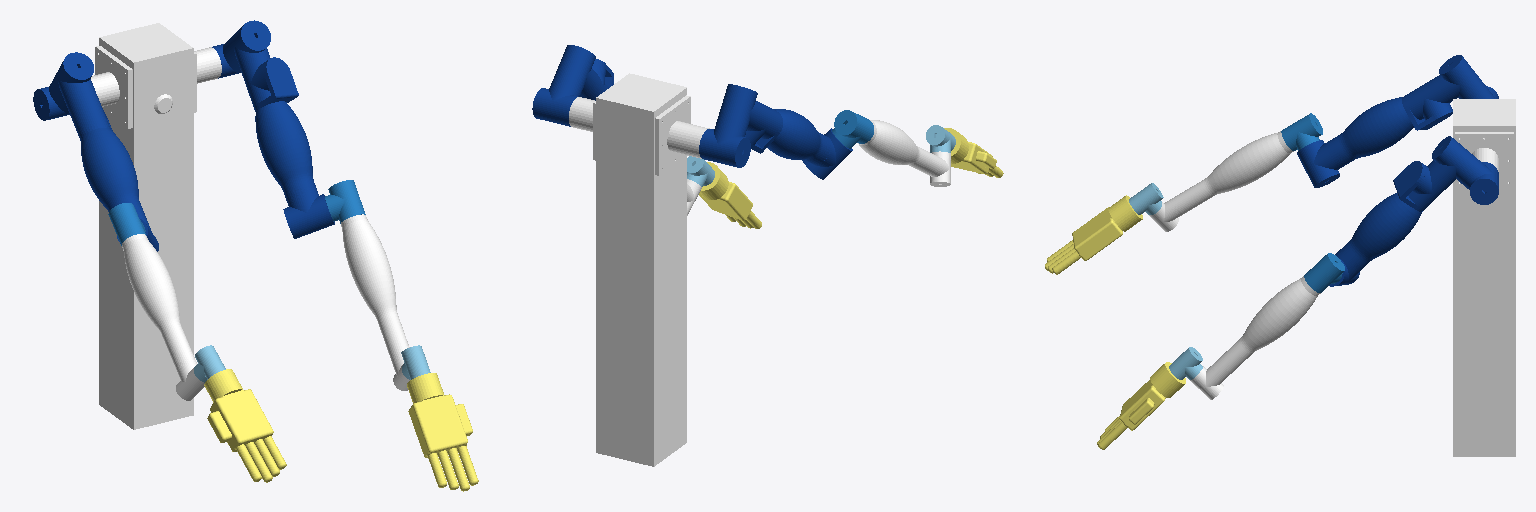
--- Render facts (derived) ---
3 views of the same robot in one strip: view 1: azimuth 30°, elevation 25°; view 2: azimuth 150°, elevation 25°; view 3: azimuth 270°, elevation 25° (orthographic).
Model armdouble with 16 links and 15 joints (14 continuous, 1 fixed), rooted at world, posed every joint at zero.
Visible links, largest first — view 1: base_link, left_link3, right_link3, left_link7, right_link5, right_link7, left_link5, left_link2, right_link2, left_link4, right_link4, right_link1 (+2 smaller); view 2: base_link, right_link3, right_link5, left_link7, right_link1, right_link2, left_link2, left_link1, right_link7, right_link4, left_link3, left_link6 (+1 smaller); view 3: base_link, right_link3, left_link3, left_link5, right_link5, right_link7, left_link7, left_link2, right_link2, left_link1, left_link4, right_link4 (+2 smaller).
Link boxes in pixels (x1=…): base_link: x1=91, y1=23, x2=221, y2=429; left_link3: x1=240, y1=57, x2=334, y2=238; right_link3: x1=65, y1=87, x2=158, y2=251; left_link7: x1=407, y1=373, x2=478, y2=491; right_link5: x1=122, y1=234, x2=204, y2=400; right_link7: x1=204, y1=369, x2=286, y2=482; left_link5: x1=341, y1=214, x2=409, y2=390; left_link2: x1=225, y1=20, x2=270, y2=66; right_link2: x1=51, y1=52, x2=94, y2=101; left_link4: x1=325, y1=180, x2=365, y2=223; right_link4: x1=108, y1=203, x2=145, y2=245; right_link1: x1=33, y1=84, x2=69, y2=120; base_link: x1=569, y1=73, x2=709, y2=466; right_link3: x1=745, y1=101, x2=852, y2=179; right_link5: x1=858, y1=120, x2=950, y2=186; left_link7: x1=699, y1=162, x2=761, y2=228; right_link1: x1=699, y1=124, x2=750, y2=167; right_link2: x1=716, y1=84, x2=760, y2=131; left_link2: x1=552, y1=45, x2=595, y2=93; left_link1: x1=532, y1=82, x2=580, y2=126; right_link7: x1=944, y1=128, x2=1003, y2=177; right_link4: x1=832, y1=110, x2=873, y2=148; left_link3: x1=580, y1=59, x2=613, y2=100; left_link6: x1=687, y1=156, x2=714, y2=186; base_link: x1=1453, y1=99, x2=1515, y2=456; right_link3: x1=1297, y1=76, x2=1452, y2=187; left_link3: x1=1329, y1=161, x2=1451, y2=286; left_link5: x1=1190, y1=276, x2=1320, y2=399; right_link5: x1=1149, y1=131, x2=1293, y2=231; right_link7: x1=1045, y1=195, x2=1142, y2=274; left_link7: x1=1097, y1=362, x2=1185, y2=449; left_link2: x1=1432, y1=136, x2=1479, y2=182; right_link2: x1=1437, y1=55, x2=1484, y2=100; left_link1: x1=1461, y1=161, x2=1498, y2=204; left_link4: x1=1304, y1=253, x2=1344, y2=292; right_link4: x1=1281, y1=113, x2=1322, y2=150.
Size in the robot's own frame: 0.5969 by 0.9649 by 0.7903 metres.
Meshes: 15 distinct files referenced, 15 mesh visuals loaded (15 binary STL).

robot.urdf — armdouble:
<robot
  name="armdouble">
  <link name="world"/>
  <joint name="fixed" type="fixed">
    <parent link="world"/>
    <child link="base_link"/> 
  </joint>
  <link
    name="base_link">
    <inertial>
      <origin
        xyz="-1.30825935592439E-18 -2.47843974540625E-05 0.390304716761227"
        rpy="0 0 0" />
      <mass
        value="12.9490065317485" />
      <inertia
        ixx="0.650041483576152"
        ixy="1.53302010296268E-18"
        ixz="3.97589274936842E-18"
        iyy="0.655333472882223"
        iyz="8.33448706115431E-05"
        izz="0.0397437102111683" />
    </inertial>
    <visual>
      <origin
        xyz="0 0 0"
        rpy="0 0 0" />
      <geometry>
        <mesh
          filename="package://armdouble/meshes/base_link.STL" />
      </geometry>
      <material
        name="">
        <color
          rgba="1 1 1 1" />
      </material>
    </visual>
    <collision>
      <origin
        xyz="0 0 0"
        rpy="0 0 0" />
      <geometry>
        <mesh
          filename="package://armdouble/meshes/base_link.STL" />
      </geometry>
    </collision>
  </link>
  <link
    name="left_link1">
    <inertial>
      <origin
        xyz="1.07941533489253E-09 -0.00421863823711172 0.000844539620302481"
        rpy="0 0 0" />
      <mass
        value="0.254125966188323" />
      <inertia
        ixx="0.000198332098202314"
        ixy="-4.23443733825772E-12"
        ixz="2.49972430372105E-11"
        iyy="0.000180528370127098"
        iyz="-9.05401811091255E-07"
        izz="0.000142050138600536" />
    </inertial>
    <visual>
      <origin
        xyz="0 0 0"
        rpy="0 0 0" />
      <geometry>
        <mesh
          filename="package://armdouble/meshes/left_link1.STL" />
      </geometry>
      <material
        name="">
        <color
          rgba="0.113725490196078 0.313725490196078 0.635294117647059 1" />
      </material>
    </visual>
    <collision>
      <origin
        xyz="0 0 0"
        rpy="0 0 0" />
      <geometry>
        <mesh
          filename="package://armdouble/meshes/left_link1.STL" />
      </geometry>
    </collision>
  </link>
  <joint
    name="left_joint1"
    type="continuous">
    <origin
      xyz="0.184 0 0.675"
      rpy="-1.5708 0.8195 -1.5708" />
    <parent
      link="base_link" />
    <child
      link="left_link1" />
    <axis
      xyz="0 0 -1" />
    <limit
      lower="-3.14"
      upper="3.14"
      effort="10000"
     velocity="10"/>
  </joint>
  <link
    name="left_link2">
    <inertial>
      <origin
        xyz="1.76481834701647E-09 -0.00421857706570139 0.00084454023607361"
        rpy="0 0 0" />
      <mass
        value="0.254125677990374" />
      <inertia
        ixx="0.000198331675931475"
        ixy="5.93428759048169E-12"
        ixz="5.5308855564781E-12"
        iyy="0.000180528501061914"
        iyz="-9.05388593237672E-07"
        izz="0.000142050134140347" />
    </inertial>
    <visual>
      <origin
        xyz="0 0 0"
        rpy="0 0 0" />
      <geometry>
        <mesh
          filename="package://armdouble/meshes/left_link2.STL" />
      </geometry>
      <material
        name="">
        <color
          rgba="0.113725490196078 0.313725490196078 0.635294117647059 1" />
      </material>
    </visual>
    <collision>
      <origin
        xyz="0 0 0"
        rpy="0 0 0" />
      <geometry>
        <mesh
          filename="package://armdouble/meshes/left_link2.STL" />
      </geometry>
    </collision>
  </link>
  <joint
    name="left_joint2"
    type="continuous">
    <origin
      xyz="0 -0.08 0"
      rpy="1.5708 -1.5495 -5.2864E-15" />
    <parent
      link="left_link1" />
    <child
      link="left_link2" />
    <axis
      xyz="0 0 -1" />
    <limit
      lower="-3.14"
      upper="3.14"
      effort="100"
     velocity="10"/>
  </joint>
  <link
    name="left_link3">
    <inertial>
      <origin
        xyz="9.55937768826118E-05 -0.002016109749721 0.130480214214543"
        rpy="0 0 0" />
      <mass
        value="1.44391963248352" />
      <inertia
        ixx="0.0125306224888963"
        ixy="-2.80847581554033E-05"
        ixz="-1.92557415031902E-05"
        iyy="0.0124326356673661"
        iyz="-0.000385834972851447"
        izz="0.00112527959793678" />
    </inertial>
    <visual>
      <origin
        xyz="0 0 0"
        rpy="0 0 0" />
      <geometry>
        <mesh
          filename="package://armdouble/meshes/left_link3.STL" />
      </geometry>
      <material
        name="">
        <color
          rgba="0.113725490196078 0.313725490196078 0.635294117647059 1" />
      </material>
    </visual>
    <collision>
      <origin
        xyz="0 0 0"
        rpy="0 0 0" />
      <geometry>
        <mesh
          filename="package://armdouble/meshes/left_link3.STL" />
      </geometry>
    </collision>
  </link>
  <joint
    name="left_joint3"
    type="continuous">
    <origin
      xyz="0 -0.08 0"
      rpy="-1.5708 -0.32361 -3.1416" />
    <parent
      link="left_link2" />
    <child
      link="left_link3" />
    <axis
      xyz="0 0 -1" />
    <limit
      lower="-3.14"
      upper="3.14"
      effort="100"
     velocity="10"/>
  </joint>
  <link
    name="left_link4">
    <inertial>
      <origin
        xyz="2.79610266051833E-08 -0.00355662507859367 -0.00123041304413335"
        rpy="0 0 0" />
      <mass
        value="0.151334113576265" />
      <inertia
        ixx="8.52595610907431E-05"
        ixy="4.19449361193231E-11"
        ixz="1.55356059268442E-12"
        iyy="7.76115530728594E-05"
        iyz="6.62256304869109E-07"
        izz="5.91424715957144E-05" />
    </inertial>
    <visual>
      <origin
        xyz="0 0 0"
        rpy="0 0 0" />
      <geometry>
        <mesh
          filename="package://armdouble/meshes/left_link4.STL" />
      </geometry>
      <material
        name="">
        <color
          rgba="0.2 0.537254901960784 0.792156862745098 1" />
      </material>
    </visual>
    <collision>
      <origin
        xyz="0 0 0"
        rpy="0 0 0" />
      <geometry>
        <mesh
          filename="package://armdouble/meshes/left_link4.STL" />
      </geometry>
    </collision>
  </link>
  <joint
    name="left_joint4"
    type="continuous">
    <origin
      xyz="-0.048233 -0.057434 0.27"
      rpy="1.2768E-15 -0.010773 2.443" />
    <parent
      link="left_link3" />
    <child
      link="left_link4" />
    <axis
      xyz="0 -1 0" />
    <limit
      lower="-3.14"
      upper="3.14"
      effort="100"
     velocity="10"/>
  </joint>
  <link
    name="left_link5">
    <inertial>
      <origin
        xyz="8.93314311412041E-11 -0.178072315297836 -0.000118146362791505"
        rpy="0 0 0" />
      <mass
        value="0.695687990955132" />
      <inertia
        ixx="0.00589350948115548"
        ixy="-1.0599535546759E-11"
        ixz="5.7041665228047E-13"
        iyy="0.000360945450853938"
        iyz="1.46362988160341E-05"
        izz="0.0058818682341257" />
    </inertial>
    <visual>
      <origin
        xyz="0 0 0"
        rpy="0 0 0" />
      <geometry>
        <mesh
          filename="package://armdouble/meshes/left_link5.STL" />
      </geometry>
      <material
        name="">
        <color
          rgba="1 1 1 1" />
      </material>
    </visual>
    <collision>
      <origin
        xyz="0 0 0"
        rpy="0 0 0" />
      <geometry>
        <mesh
          filename="package://armdouble/meshes/left_link5.STL" />
      </geometry>
    </collision>
  </link>
  <joint
    name="left_joint5"
    type="continuous">
    <origin
      xyz="0 0 0.35"
      rpy="1.5708 -2.6368E-16 -2.0099" />
    <parent
      link="left_link4" />
    <child
      link="left_link5" />
    <axis
      xyz="0 -1 0" />
    <limit
      lower="-3.14"
      upper="3.14"
      effort="100"
     velocity="10"/>
  </joint>
  <link
    name="left_link6">
    <inertial>
      <origin
        xyz="-6.59787391388278E-10 -0.060977377780739 -0.00332710438216816"
        rpy="0 0 0" />
      <mass
        value="0.0840954351235641" />
      <inertia
        ixx="3.35334184632453E-05"
        ixy="-5.17018097357904E-13"
        ixz="-2.60360251467154E-13"
        iyy="2.19627942424673E-05"
        iyz="2.73464678692907E-07"
        izz="2.99782491575417E-05" />
    </inertial>
    <visual>
      <origin
        xyz="0 0 0"
        rpy="0 0 0" />
      <geometry>
        <mesh
          filename="package://armdouble/meshes/left_link6.STL" />
      </geometry>
      <material
        name="">
        <color
          rgba="0.572549019607843 0.803921568627451 0.913725490196078 1" />
      </material>
    </visual>
    <collision>
      <origin
        xyz="0 0 0"
        rpy="0 0 0" />
      <geometry>
        <mesh
          filename="package://armdouble/meshes/left_link6.STL" />
      </geometry>
    </collision>
  </link>
  <joint
    name="left_joint6"
    type="continuous">
    <origin
      xyz="0 0 0.06"
      rpy="1.5708 1.1102E-16 -3.1416" />
    <parent
      link="left_link5" />
    <child
      link="left_link6" />
    <axis
      xyz="0 -1 0" />
    <limit
      lower="-3.14"
      upper="3.14"
      effort="100"
     velocity="10"/>
  </joint>
  <link
    name="left_link7">
    <inertial>
      <origin
        xyz="-0.00238069059477031 7.67189756167852E-10 0.0937656479758585"
        rpy="0 0 0" />
      <mass
        value="0.515437278825869" />
      <inertia
        ixx="0.00144071148561393"
        ixy="-9.84455041357774E-11"
        ixz="1.28663522693283E-05"
        iyy="0.00165389003057971"
        iyz="-1.89345840845593E-11"
        izz="0.000352650786530423" />
    </inertial>
    <visual>
      <origin
        xyz="0 0 0"
        rpy="0 0 0" />
      <geometry>
        <mesh
          filename="package://armdouble/meshes/left_link7.STL" />
      </geometry>
      <material
        name="">
        <color
          rgba="1 0.964705882352941 0.482352941176471 1" />
      </material>
    </visual>
    <collision>
      <origin
        xyz="0 0 0"
        rpy="0 0 0" />
      <geometry>
        <mesh
          filename="package://armdouble/meshes/left_link7.STL" />
      </geometry>
    </collision>
  </link>
  <joint
    name="left_joint7"
    type="continuous">
    <origin
      xyz="0 0 0.03"
      rpy="3.8858E-16 -2.2204E-16 -3.1416" />
    <parent
      link="left_link6" />
    <child
      link="left_link7" />
    <axis
      xyz="0 0 1" />
    <limit
      lower="-3.14"
      upper="3.14"
      effort="100"
     velocity="10"/>
  </joint>
  <link
    name="right_link1">
    <inertial>
      <origin
        xyz="8.13915529418452E-09 -0.00421863569936587 0.0008445396293075"
        rpy="0 0 0" />
      <mass
        value="0.254125954556314" />
      <inertia
        ixx="0.000198332079001037"
        ixy="1.78425867627279E-11"
        ixz="2.5746319183967E-11"
        iyy="0.000180528373097958"
        iyz="-9.05401254386239E-07"
        izz="0.00014205013378744" />
    </inertial>
    <visual>
      <origin
        xyz="0 0 0"
        rpy="0 0 0" />
      <geometry>
        <mesh
          filename="package://armdouble/meshes/right_link1.STL" />
      </geometry>
      <material
        name="">
        <color
          rgba="0.113725490196078 0.313725490196078 0.635294117647059 1" />
      </material>
    </visual>
    <collision>
      <origin
        xyz="0 0 0"
        rpy="0 0 0" />
      <geometry>
        <mesh
          filename="package://armdouble/meshes/right_link1.STL" />
      </geometry>
    </collision>
  </link>
  <joint
    name="right_joint1"
    type="continuous">
    <origin
      xyz="-0.184 0 0.675"
      rpy="-1.5708 -0.6157 1.5708" />
    <parent
      link="base_link" />
    <child
      link="right_link1" />
    <axis
      xyz="0 0 -1" />
    <limit
      lower="-3.14"
      upper="3.14"
      effort="100"
     velocity="10"/>
  </joint>
  <link
    name="right_link2">
    <inertial>
      <origin
        xyz="9.09519395908553E-09 -0.00421858096765254 0.00084454192245742"
        rpy="0 0 0" />
      <mass
        value="0.254125697144451" />
      <inertia
        ixx="0.000198331699219475"
        ixy="2.67526489751023E-11"
        ixz="8.21765266308138E-12"
        iyy="0.000180528489194234"
        iyz="-9.05389618477969E-07"
        izz="0.000142050127643342" />
    </inertial>
    <visual>
      <origin
        xyz="0 0 0"
        rpy="0 0 0" />
      <geometry>
        <mesh
          filename="package://armdouble/meshes/right_link2.STL" />
      </geometry>
      <material
        name="">
        <color
          rgba="0.113725490196078 0.313725490196078 0.635294117647059 1" />
      </material>
    </visual>
    <collision>
      <origin
        xyz="0 0 0"
        rpy="0 0 0" />
      <geometry>
        <mesh
          filename="package://armdouble/meshes/right_link2.STL" />
      </geometry>
    </collision>
  </link>
  <joint
    name="right_joint2"
    type="continuous">
    <origin
      xyz="0 -0.08 0"
      rpy="-1.5708 1.4879 3.1416" />
    <parent
      link="right_link1" />
    <child
      link="right_link2" />
    <axis
      xyz="0 0 -1" />
    <limit
      lower="-3.14"
      upper="3.14"
      effort="100"
     velocity="10"/>
  </joint>
  <link
    name="right_link3">
    <inertial>
      <origin
        xyz="8.36137888793331E-06 -0.00227833630004282 0.13224017765766"
        rpy="0 0 0" />
      <mass
        value="1.44391962665325" />
      <inertia
        ixx="0.0132607805607266"
        ixy="3.14547025350733E-06"
        ixz="-1.78633685494402E-06"
        iyy="0.0131180866080102"
        iyz="-0.000336655790884567"
        izz="0.00112366670747596" />
    </inertial>
    <visual>
      <origin
        xyz="0 0 0"
        rpy="0 0 0" />
      <geometry>
        <mesh
          filename="package://armdouble/meshes/right_link3.STL" />
      </geometry>
      <material
        name="">
        <color
          rgba="0.113725490196078 0.313725490196078 0.635294117647059 1" />
      </material>
    </visual>
    <collision>
      <origin
        xyz="0 0 0"
        rpy="0 0 0" />
      <geometry>
        <mesh
          filename="package://armdouble/meshes/right_link3.STL" />
      </geometry>
    </collision>
  </link>
  <joint
    name="right_joint3"
    type="continuous">
    <origin
      xyz="0 -0.08 0"
      rpy="1.5708 -0.52464 1.9883E-15" />
    <parent
      link="right_link2" />
    <child
      link="right_link3" />
    <axis
      xyz="0 0 -1" />
    <limit
      lower="-3.14"
      upper="3.14"
      effort="100"
     velocity="10"/>
  </joint>
  <link
    name="right_link4">
    <inertial>
      <origin
        xyz="-2.95433769947895E-08 -0.00355661151027398 -0.00123041346185349"
        rpy="0 0 0" />
      <mass
        value="0.15133406560684" />
      <inertia
        ixx="8.52595173579592E-05"
        ixy="-4.00561334022202E-11"
        ixz="1.02985025597689E-11"
        iyy="7.76115618142258E-05"
        iyz="6.62253549355129E-07"
        izz="5.91424694112566E-05" />
    </inertial>
    <visual>
      <origin
        xyz="0 0 0"
        rpy="0 0 0" />
      <geometry>
        <mesh
          filename="package://armdouble/meshes/right_link4.STL" />
      </geometry>
      <material
        name="">
        <color
          rgba="0.2 0.537254901960784 0.792156862745098 1" />
      </material>
    </visual>
    <collision>
      <origin
        xyz="0 0 0"
        rpy="0 0 0" />
      <geometry>
        <mesh
          filename="package://armdouble/meshes/right_link4.STL" />
      </geometry>
    </collision>
  </link>
  <joint
    name="right_joint4"
    type="continuous">
    <origin
      xyz="-0.0042216 0.074881 0.28"
      rpy="-2.8869E-15 0.014423 0.056317" />
    <parent
      link="right_link3" />
    <child
      link="right_link4" />
    <axis
      xyz="0 -1 0" />
    <limit
      lower="-3.14"
      upper="3.14"
      effort="100"
     velocity="10"/>
  </joint>
  <link
    name="right_link5">
    <inertial>
      <origin
        xyz="1.8523904632417E-10 -0.178072313456951 -0.000118146531250307"
        rpy="0 0 0" />
      <mass
        value="0.695688000018042" />
      <inertia
        ixx="0.00589350965654226"
        ixy="-2.1895961115065E-11"
        ixz="8.56147075976865E-13"
        iyy="0.000360945449051886"
        iyz="1.46363198102075E-05"
        izz="0.00588186840370165" />
    </inertial>
    <visual>
      <origin
        xyz="0 0 0"
        rpy="0 0 0" />
      <geometry>
        <mesh
          filename="package://armdouble/meshes/right_link5.STL" />
      </geometry>
      <material
        name="">
        <color
          rgba="1 1 1 1" />
      </material>
    </visual>
    <collision>
      <origin
        xyz="0 0 0"
        rpy="0 0 0" />
      <geometry>
        <mesh
          filename="package://armdouble/meshes/right_link5.STL" />
      </geometry>
    </collision>
  </link>
  <joint
    name="right_joint5"
    type="continuous">
    <origin
      xyz="0 0 0.35"
      rpy="1.5708 7.0777E-16 2.2424" />
    <parent
      link="right_link4" />
    <child
      link="right_link5" />
    <axis
      xyz="0 -1 0" />
    <limit
      lower="-3.14"
      upper="3.14"
      effort="100"
     velocity="10"/>
  </joint>
  <link
    name="right_link6">
    <inertial>
      <origin
        xyz="1.72353870064867E-08 -0.00332711026229804 -0.000977377267251167"
        rpy="0 0 0" />
      <mass
        value="0.0840954505566071" />
      <inertia
        ixx="3.35334258703234E-05"
        ixy="9.31389665997977E-12"
        ixz="-4.55906246118304E-13"
        iyy="2.99782451158901E-05"
        iyz="2.7346510325998E-07"
        izz="2.19627906947379E-05" />
    </inertial>
    <visual>
      <origin
        xyz="0 0 0"
        rpy="0 0 0" />
      <geometry>
        <mesh
          filename="package://armdouble/meshes/right_link6.STL" />
      </geometry>
      <material
        name="">
        <color
          rgba="0.572549019607843 0.803921568627451 0.913725490196078 1" />
      </material>
    </visual>
    <collision>
      <origin
        xyz="0 0 0"
        rpy="0 0 0" />
      <geometry>
        <mesh
          filename="package://armdouble/meshes/right_link6.STL" />
      </geometry>
    </collision>
  </link>
  <joint
    name="right_joint6"
    type="continuous">
    <origin
      xyz="0 0 0.06"
      rpy="1.5708 -6.9389E-16 -3.0037" />
    <parent
      link="right_link5" />
    <child
      link="right_link6" />
    <axis
      xyz="0 -1 0" />
    <limit
      lower="-3.14"
      upper="3.14"
      effort="100"
     velocity="10"/>
  </joint>
  <link
    name="right_link7">
    <inertial>
      <origin
        xyz="-0.00238068983457324 -4.99865926428811E-10 0.0937656479507275"
        rpy="0 0 0" />
      <mass
        value="0.515437278134674" />
      <inertia
        ixx="0.00144071148068865"
        ixy="-9.67341236477706E-11"
        ixz="1.2866334374982E-05"
        iyy="0.0016538900268342"
        iyz="-5.06397286842257E-12"
        izz="0.000352650786034832" />
    </inertial>
    <visual>
      <origin
        xyz="0 0 0"
        rpy="0 0 0" />
      <geometry>
        <mesh
          filename="package://armdouble/meshes/right_link7.STL" />
      </geometry>
      <material
        name="">
        <color
          rgba="1 0.964705882352941 0.482352941176471 1" />
      </material>
    </visual>
    <collision>
      <origin
        xyz="0 0 0"
        rpy="0 0 0" />
      <geometry>
        <mesh
          filename="package://armdouble/meshes/right_link7.STL" />
      </geometry>
    </collision>
  </link>
  <joint
    name="right_joint7"
    type="continuous">
    <origin
      xyz="0 0 0.03"
      rpy="9.992E-16 -2.7756E-17 0.29205" />
    <parent
      link="right_link6" />
    <child
      link="right_link7" />
    <axis
      xyz="0 0 1" />
    <limit
      lower="-3.14"
      upper="3.14"
      effort="100"
     velocity="10"/>
  </joint>
  <transmission name="left_tran1">
    <type>transmission_interface/SimpleTransmission</type>
    <joint name="left_joint1">
      <hardwareInterface>hardware_interface/EffortJointInterface</hardwareInterface>
    </joint>
    <actuator name="left_motor1">
      <hardwareInterface>hardware_interface/EffortJointInterface</hardwareInterface>
      <mechanicalReduction>1</mechanicalReduction>
    </actuator>
  </transmission>
  <transmission name="left_tran2">
    <type>transmission_interface/SimpleTransmission</type>
    <joint name="left_joint2">
      <hardwareInterface>hardware_interface/EffortJointInterface</hardwareInterface>
    </joint>
    <actuator name="left_motor2">
      <hardwareInterface>hardware_interface/EffortJointInterface</hardwareInterface>
      <mechanicalReduction>1</mechanicalReduction>
    </actuator>
  </transmission>
  <transmission name="left_tran3">
    <type>transmission_interface/SimpleTransmission</type>
    <joint name="left_joint3">
      <hardwareInterface>hardware_interface/EffortJointInterface</hardwareInterface>
    </joint>
    <actuator name="left_motor3">
      <hardwareInterface>hardware_interface/EffortJointInterface</hardwareInterface>
      <mechanicalReduction>1</mechanicalReduction>
    </actuator>
  </transmission>
  <transmission name="left_tran4">
    <type>transmission_interface/SimpleTransmission</type>
    <joint name="left_joint4">
      <hardwareInterface>hardware_interface/EffortJointInterface</hardwareInterface>
    </joint>
    <actuator name="left_motor4">
      <hardwareInterface>hardware_interface/EffortJointInterface</hardwareInterface>
      <mechanicalReduction>1</mechanicalReduction>
    </actuator>
  </transmission>
  <transmission name="left_tran5">
    <type>transmission_interface/SimpleTransmission</type>
    <joint name="left_joint5">
      <hardwareInterface>hardware_interface/EffortJointInterface</hardwareInterface>
    </joint>
    <actuator name="left_motor5">
      <hardwareInterface>hardware_interface/EffortJointInterface</hardwareInterface>
      <mechanicalReduction>1</mechanicalReduction>
    </actuator>
  </transmission>
  <transmission name="left_tran6">
    <type>transmission_interface/SimpleTransmission</type>
    <joint name="left_joint6">
      <hardwareInterface>hardware_interface/EffortJointInterface</hardwareInterface>
    </joint>
    <actuator name="left_motor6">
      <hardwareInterface>hardware_interface/EffortJointInterface</hardwareInterface>
      <mechanicalReduction>1</mechanicalReduction>
    </actuator>
  </transmission>
  <transmission name="left_tran7">
    <type>transmission_interface/SimpleTransmission</type>
    <joint name="left_joint7">
      <hardwareInterface>hardware_interface/EffortJointInterface</hardwareInterface>
    </joint>
    <actuator name="left_motor7">
      <hardwareInterface>hardware_interface/EffortJointInterface</hardwareInterface>
      <mechanicalReduction>1</mechanicalReduction>
    </actuator>
  </transmission>

  <transmission name="right_tran1">
    <type>transmission_interface/SimpleTransmission</type>
    <joint name="right_joint1">
      <hardwareInterface>hardware_interface/EffortJointInterface</hardwareInterface>
    </joint>
    <actuator name="right_motor1">
      <hardwareInterface>hardware_interface/EffortJointInterface</hardwareInterface>
      <mechanicalReduction>1</mechanicalReduction>
    </actuator>
  </transmission>
  <transmission name="right_tran2">
    <type>transmission_interface/SimpleTransmission</type>
    <joint name="right_joint2">
      <hardwareInterface>hardware_interface/EffortJointInterface</hardwareInterface>
    </joint>
    <actuator name="right_motor2">
      <hardwareInterface>hardware_interface/EffortJointInterface</hardwareInterface>
      <mechanicalReduction>1</mechanicalReduction>
    </actuator>
  </transmission>
  <transmission name="right_tran3">
    <type>transmission_interface/SimpleTransmission</type>
    <joint name="right_joint3">
      <hardwareInterface>hardware_interface/EffortJointInterface</hardwareInterface>
    </joint>
    <actuator name="right_motor3">
      <hardwareInterface>hardware_interface/EffortJointInterface</hardwareInterface>
      <mechanicalReduction>1</mechanicalReduction>
    </actuator>
  </transmission>
  <transmission name="right_tran4">
    <type>transmission_interface/SimpleTransmission</type>
    <joint name="right_joint4">
      <hardwareInterface>hardware_interface/EffortJointInterface</hardwareInterface>
    </joint>
    <actuator name="right_motor4">
      <hardwareInterface>hardware_interface/EffortJointInterface</hardwareInterface>
      <mechanicalReduction>1</mechanicalReduction>
    </actuator>
  </transmission>
  <transmission name="right_tran5">
    <type>transmission_interface/SimpleTransmission</type>
    <joint name="right_joint5">
      <hardwareInterface>hardware_interface/EffortJointInterface</hardwareInterface>
    </joint>
    <actuator name="right_motor5">
      <hardwareInterface>hardware_interface/EffortJointInterface</hardwareInterface>
      <mechanicalReduction>1</mechanicalReduction>
    </actuator>
  </transmission>
  <transmission name="right_tran6">
    <type>transmission_interface/SimpleTransmission</type>
    <joint name="right_joint6">
      <hardwareInterface>hardware_interface/EffortJointInterface</hardwareInterface>
    </joint>
    <actuator name="right_motor6">
      <hardwareInterface>hardware_interface/EffortJointInterface</hardwareInterface>
      <mechanicalReduction>1</mechanicalReduction>
    </actuator>
  </transmission>
  <transmission name="right_tran7">
    <type>transmission_interface/SimpleTransmission</type>
    <joint name="right_joint7">
      <hardwareInterface>hardware_interface/EffortJointInterface</hardwareInterface>
    </joint>
    <actuator name="right_motor7">
      <hardwareInterface>hardware_interface/EffortJointInterface</hardwareInterface>
      <mechanicalReduction>1</mechanicalReduction>
    </actuator>
  </transmission>
  <gazebo>
    <plugin filename="libgazebo_ros_control.so" name="gazebo_ros_control">
      <robotNamespace>/armdouble</robotNamespace>
      <robotSimType>gazebo_ros_control/DefaultRobotHWSim</robotSimType>
    </plugin>
  </gazebo>
    <!-- Link1 -->
  <gazebo reference="base_link">
    <material>Gazebo/Orange</material>
  </gazebo>

  <!-- Link2 -->
  <gazebo reference="left_link1">
    <mu1>0.2</mu1>
    <mu2>0.2</mu2>
    <material>Gazebo/white</material>
  </gazebo>
  <gazebo reference="left_link2">
    <mu1>0.2</mu1>
    <mu2>0.2</mu2>
    <material>Gazebo/white</material>
  </gazebo>
    <gazebo reference="left_link3">
    <mu1>0.2</mu1>
    <mu2>0.2</mu2>
    <material>Gazebo/white</material>
  </gazebo>
    <gazebo reference="left_link4">
    <mu1>0.2</mu1>
    <mu2>0.2</mu2>
    <material>Gazebo/white</material>
  </gazebo>
    <gazebo reference="left_link5">
    <mu1>0.2</mu1>
    <mu2>0.2</mu2>
    <material>Gazebo/white</material>
  </gazebo>
    <gazebo reference="left_link6">
    <mu1>0.2</mu1>
    <mu2>0.2</mu2>
    <material>Gazebo/white</material>
  </gazebo>
    <gazebo reference="left_link7">
    <mu1>0.2</mu1>
    <mu2>0.2</mu2>
    <material>Gazebo/white</material>
  </gazebo>

</robot>
